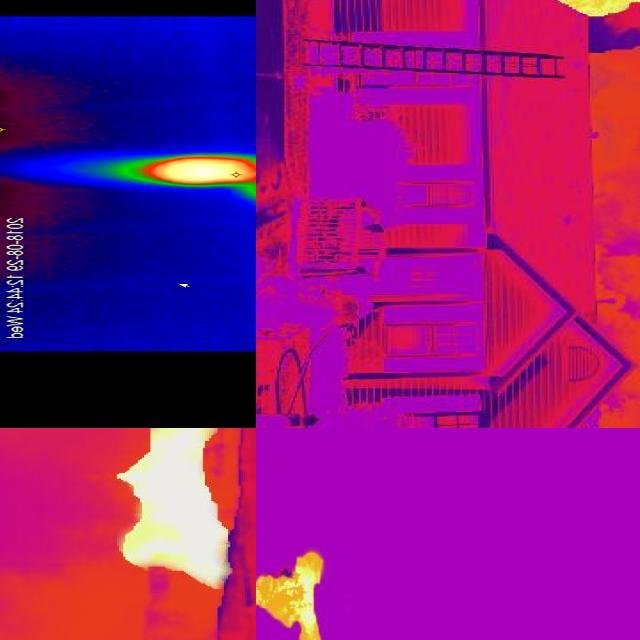fire: (108, 427, 256, 595), (257, 546, 333, 640), (91, 154, 257, 189), (562, 1, 640, 23)
